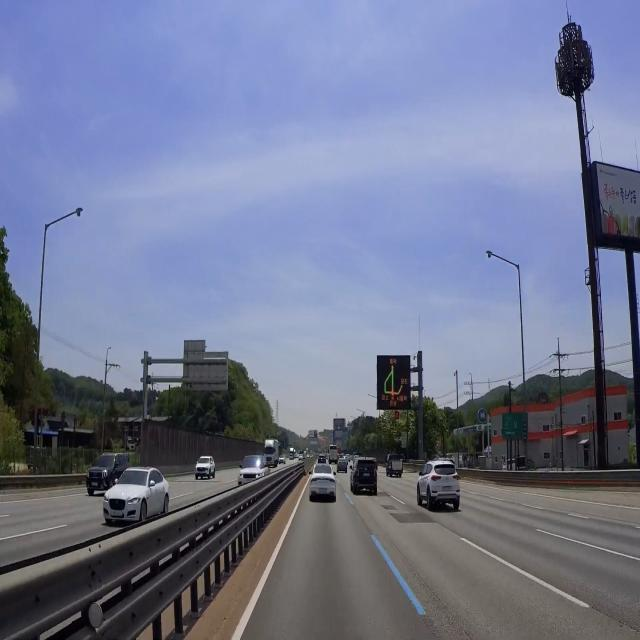car: (108, 508, 124, 526), (316, 485, 332, 499), (440, 481, 453, 497), (88, 478, 101, 492), (362, 470, 373, 483)
